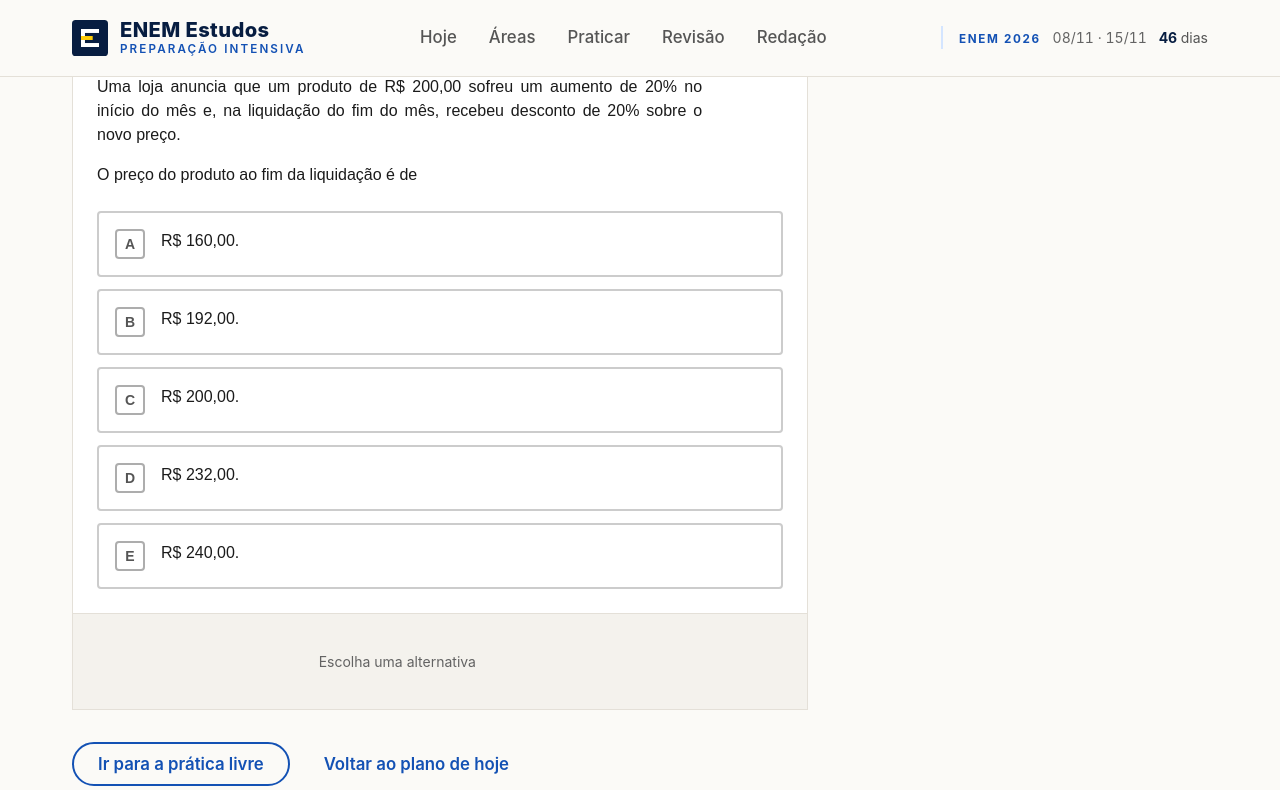
Test: resolução de questão e correção › explica o erro em vez de só dizer que errou
(page scrolled)
What coordinates should you click on to do the following:
click the button named "Alternativa C"
I would click on:
 (200, 396)
Its box is [97, 367, 783, 433].
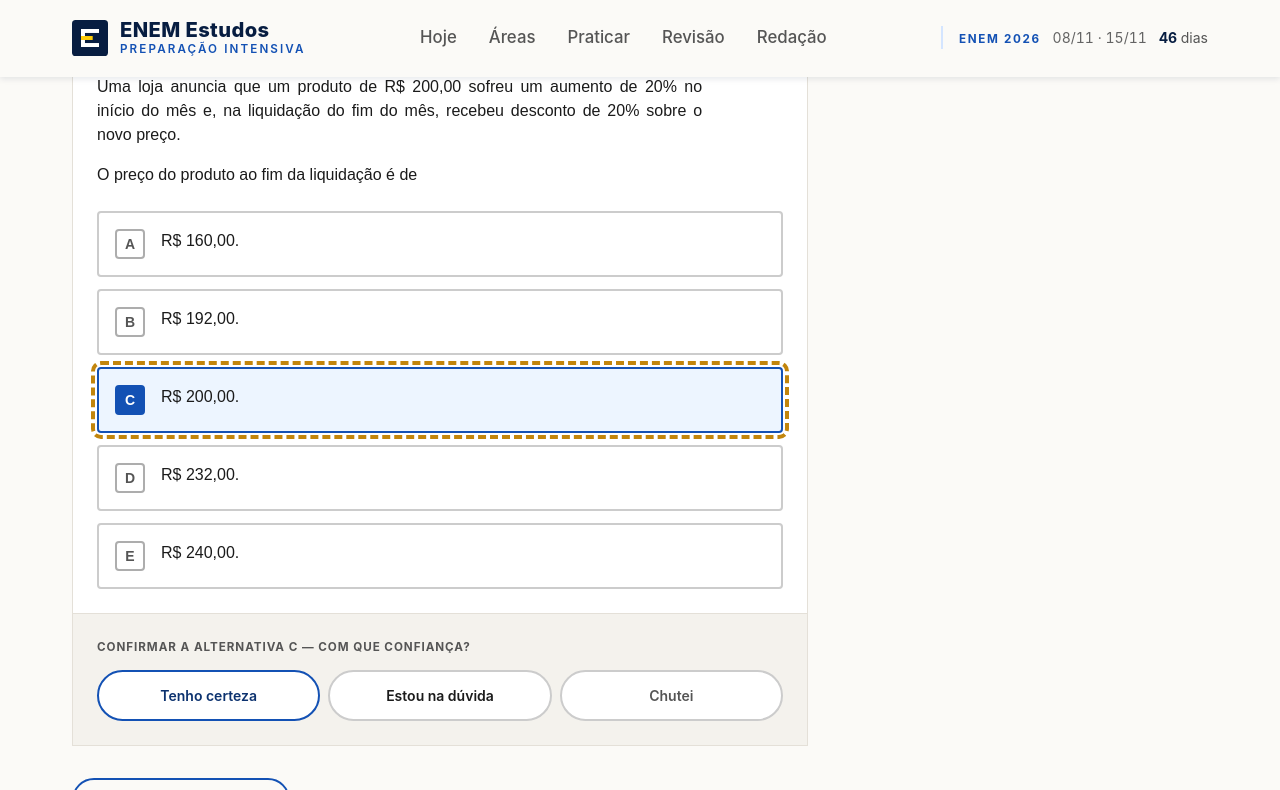
What coordinates should you click on to do the following:
click the button "Tenho certeza"
I would click on:
 (209, 695)
Its box is [97, 670, 320, 721].
(page scrolled)
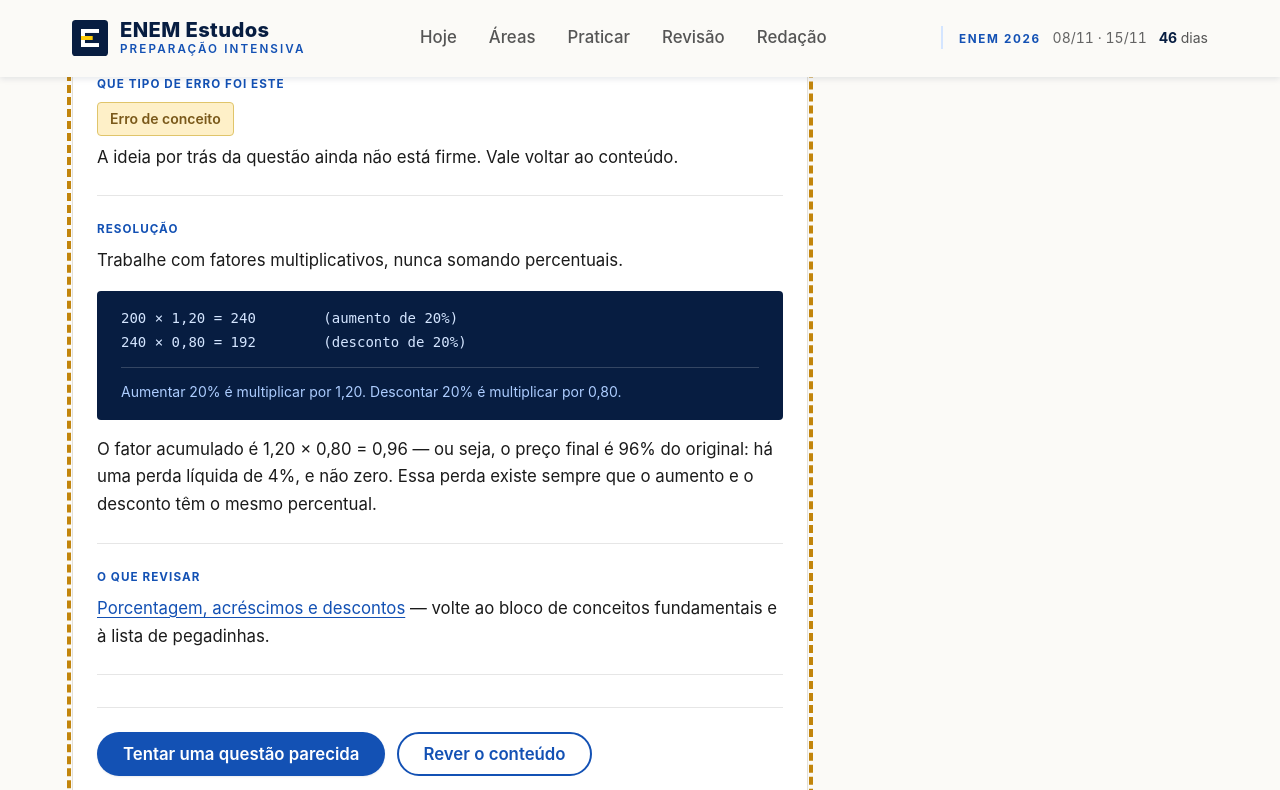
Expected: the text "Que tipo de erro foi este" is shown, [97, 77, 285, 91]
Expected: the text "O que revisar" is shown, [97, 570, 200, 584]
